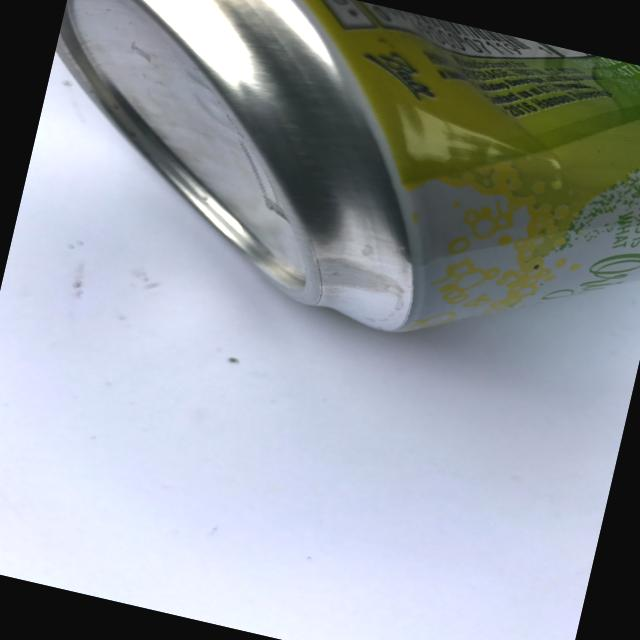Metal: (5, 0, 640, 405)
